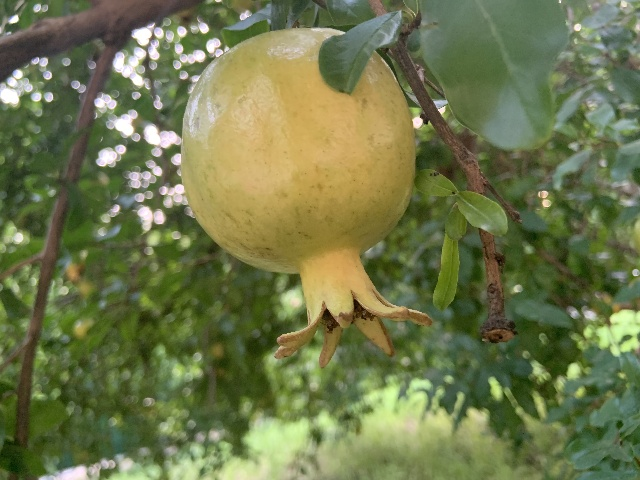mid-growth: (180, 27, 432, 368)
